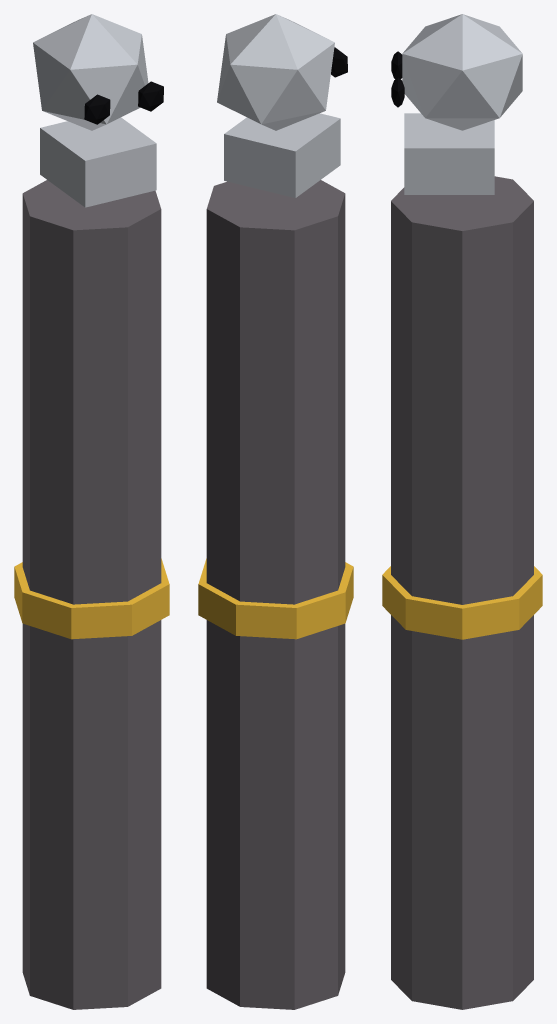
The model's file is Prop_OR_SkullTotem_14.glb.
3 renders of one model, left to right at view 1: azimuth 30°, elevation 25°; view 2: azimuth 150°, elevation 25°; view 3: azimuth 270°, elevation 25°, orthographic.
Parts seen in each view (by area): view 1: Prop_OR_SkullTotem_14; view 2: Prop_OR_SkullTotem_14; view 3: Prop_OR_SkullTotem_14.
Part boxes in pixels (x1,y1,x2,y2): Prop_OR_SkullTotem_14: (14, 14, 169, 1009); Prop_OR_SkullTotem_14: (198, 14, 353, 1009); Prop_OR_SkullTotem_14: (382, 14, 542, 1009).
Bounding box in the file's own units: 0.56 × 3.72 × 0.56.
